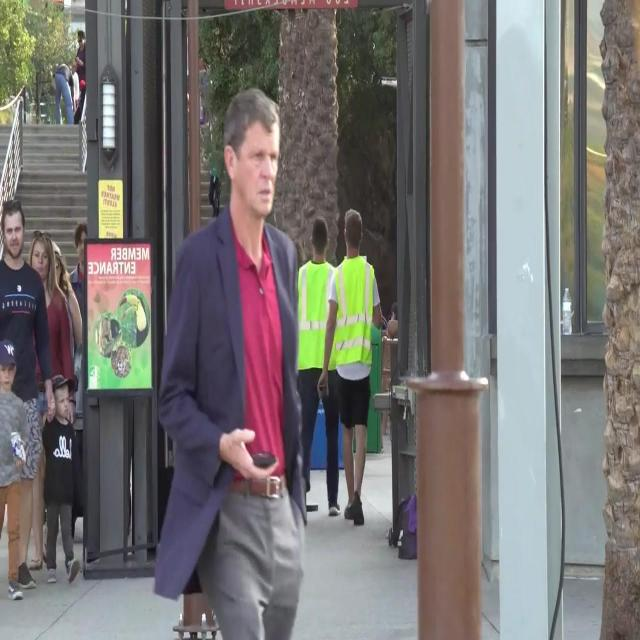Reflective-Jacket: (328, 252, 384, 384), (292, 257, 342, 382)
